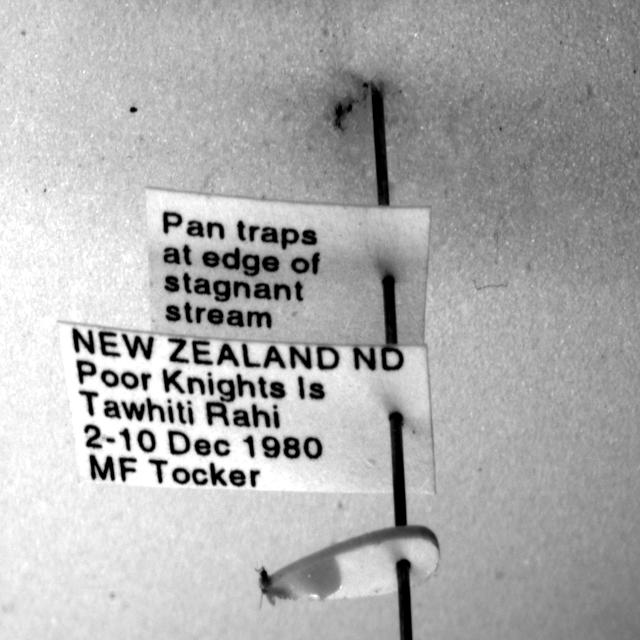typed_label: (59, 322, 435, 493), (146, 188, 430, 345)
